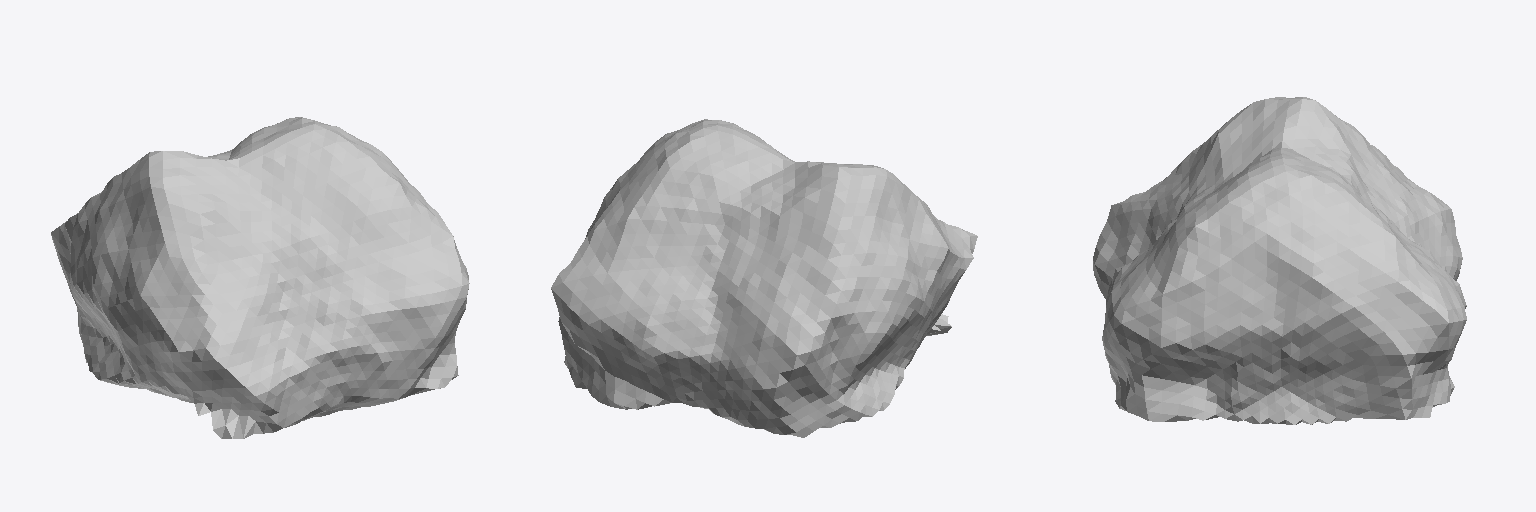
File: Rock4.obj
3 views of the same model, side by side, from view 1: azimuth 30°, elevation 25°; view 2: azimuth 150°, elevation 25°; view 3: azimuth 270°, elevation 25° (orthographic).
Parts seen in each view (by area): view 1: default; view 2: default; view 3: default.
Part boxes in pixels (x1,y1,x2,y2): default: (51, 117, 469, 438); default: (551, 119, 977, 437); default: (1093, 97, 1466, 424).
Size of the model in its own units: 1.89 by 1.36 by 1.98.